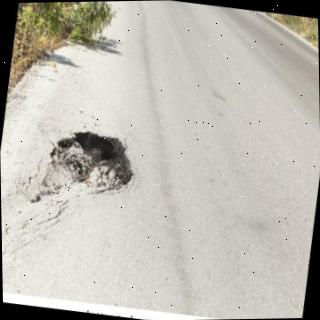pothole: (29, 132, 133, 203)
